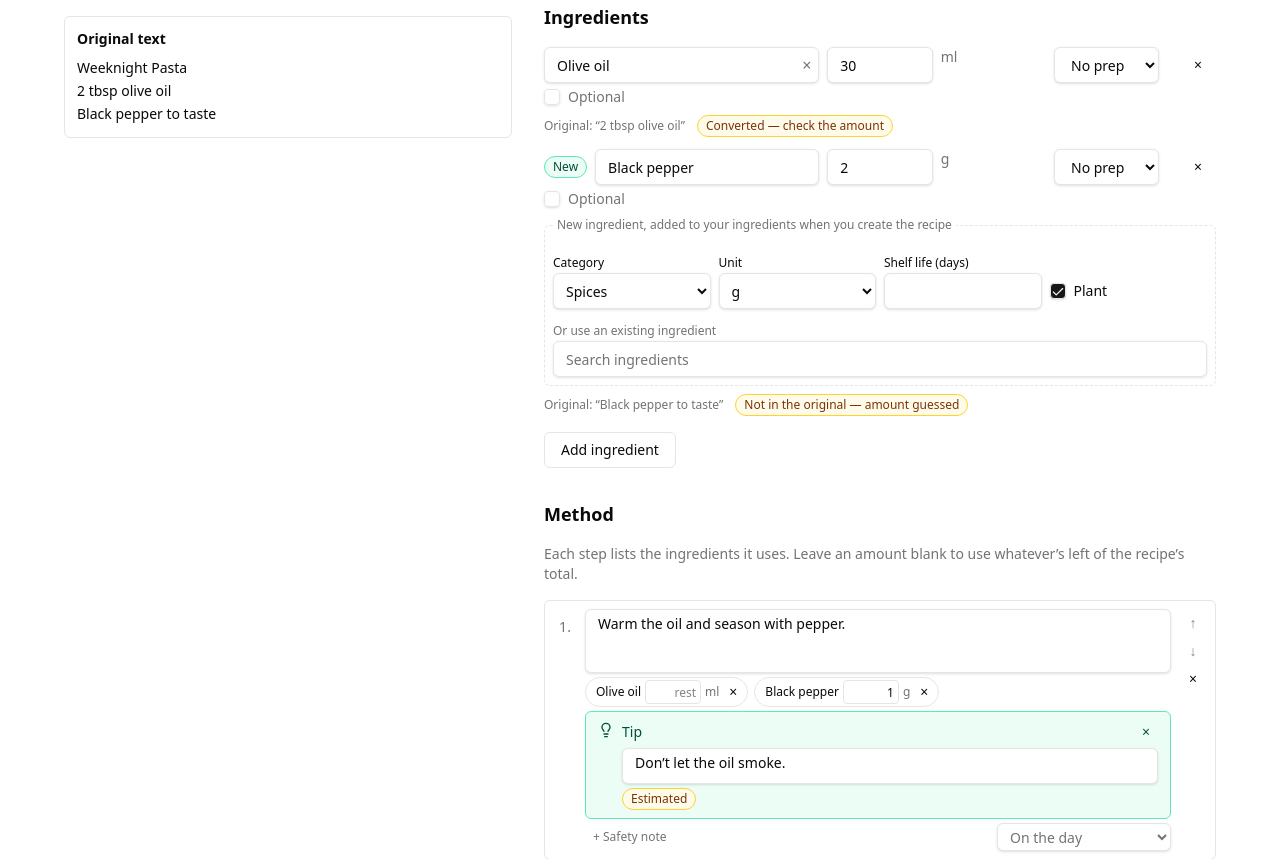
Test: RecipeImportReviewPage › proposes a new ingredient for a name that isn’t in the list
(page scrolled)
Click the button "Add ingredient" at {"x": 610, "y": 450}, box x1=544 y1=432 x2=676 y2=468
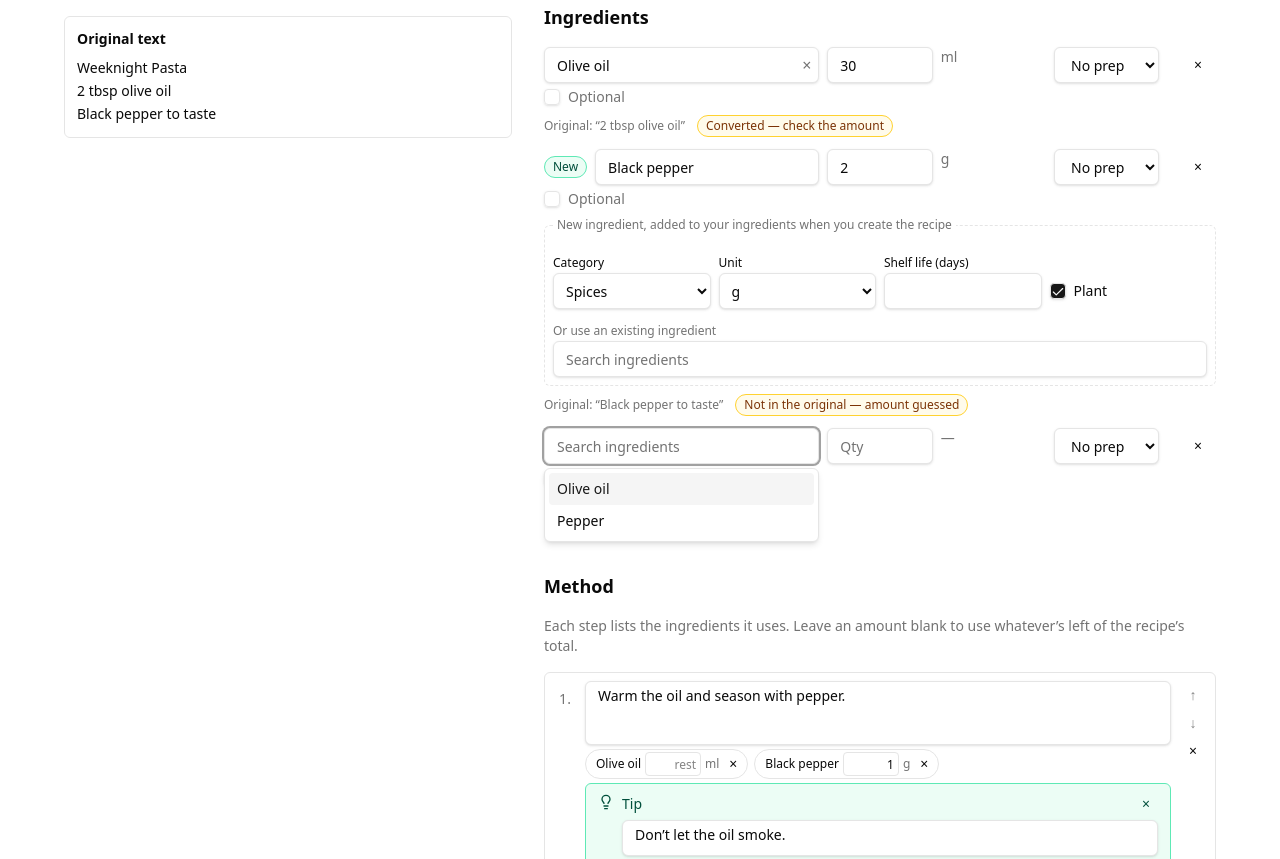
Type "Basil" into the dropdown named "Ingredient for row 3" at {"x": 682, "y": 446}, box x1=544 y1=428 x2=819 y2=464
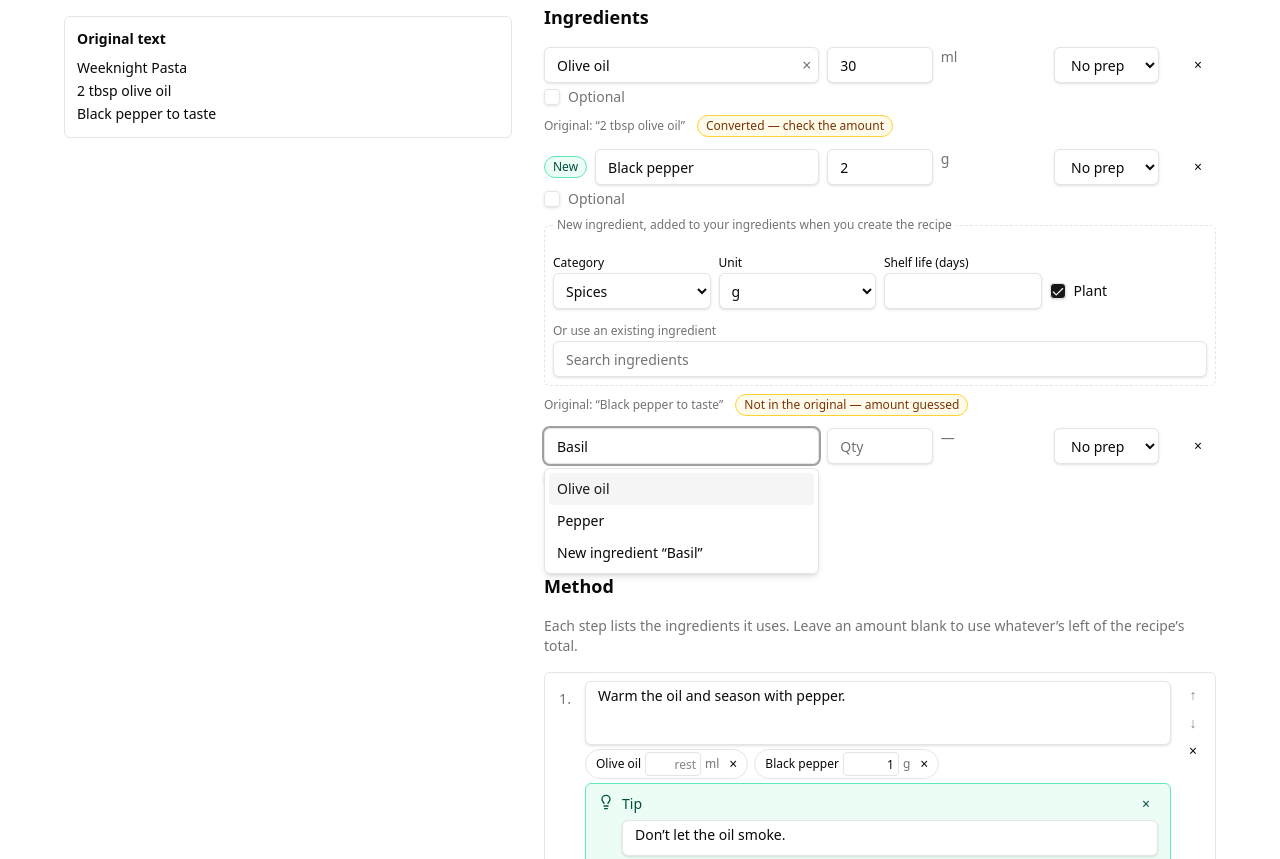
Click the option "New ingredient “Basil”" at {"x": 630, "y": 552}, box x1=557 y1=543 x2=703 y2=562
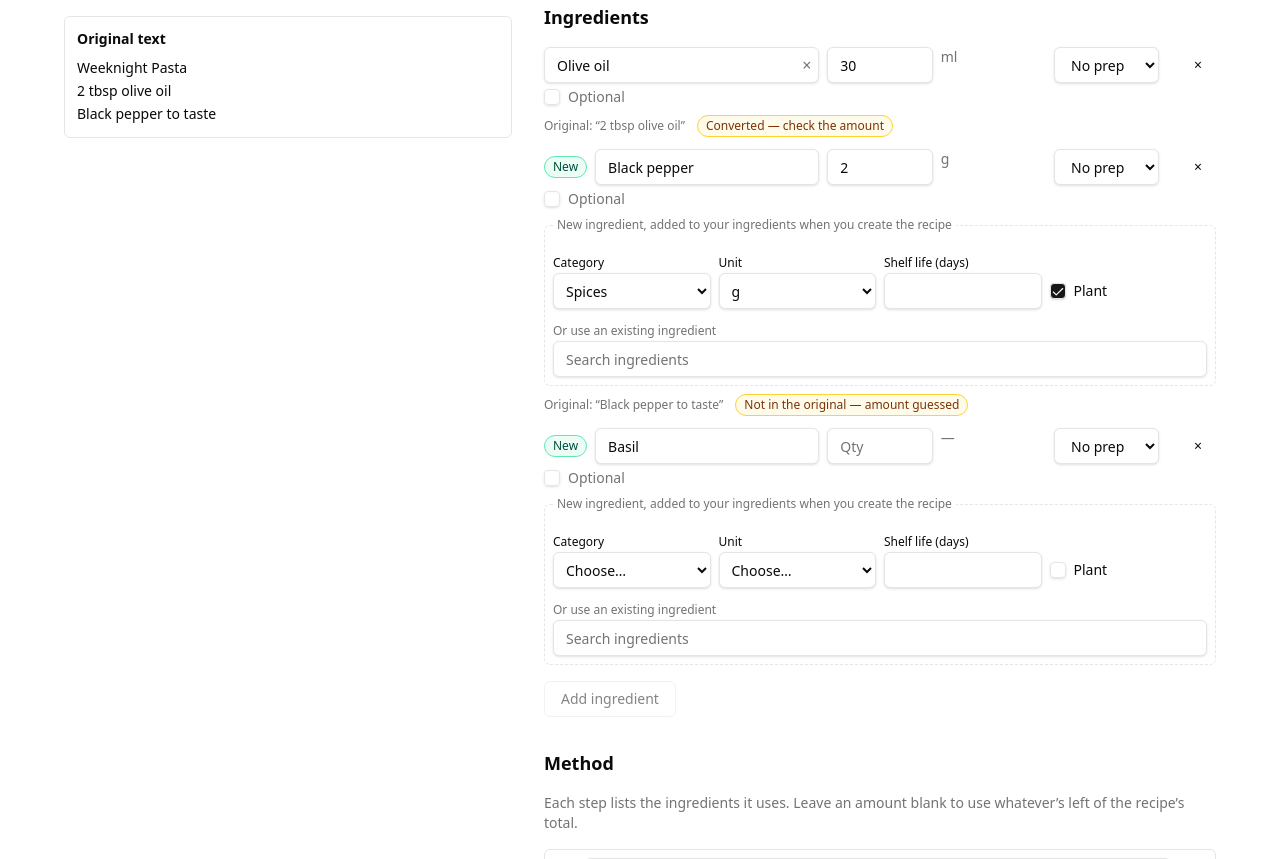
Result: the field named "New ingredient name for row 3" holds "Basil" at x1=595 y1=428 x2=819 y2=464
Result: the dropdown named "Category for the new ingredient in row 3" shows "Choose…" at x1=553 y1=552 x2=710 y2=588
